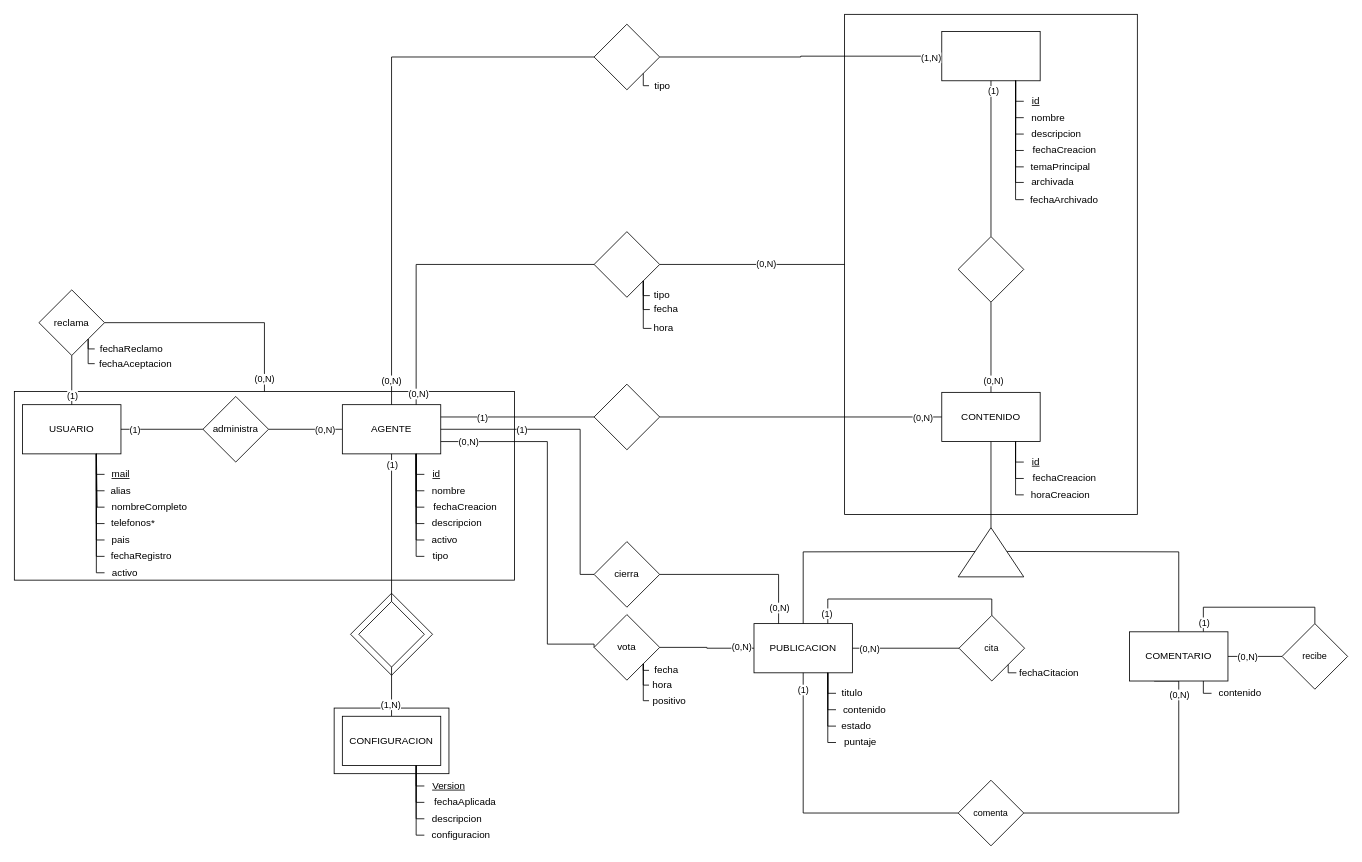
Image size: 1362x862. Some labels were removed from this diagram. The shapes that lost their labels are listed below. From the top down, each one's box as (x1, y1, x2, y2) in pixels, then its label:
(593, 23, 660, 90): participa
(941, 31, 1040, 81): COMUNIDAD
(593, 231, 660, 297): interviene
(957, 236, 1024, 302): pertenece
(593, 383, 660, 450): publica
(358, 601, 424, 667): cambia
